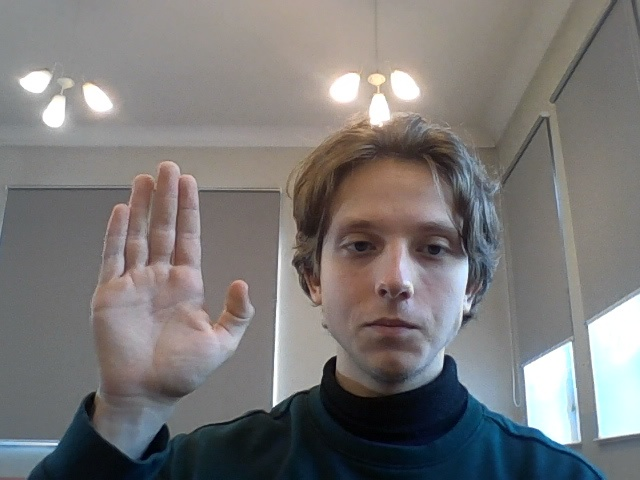hello: (85, 158, 262, 408)
